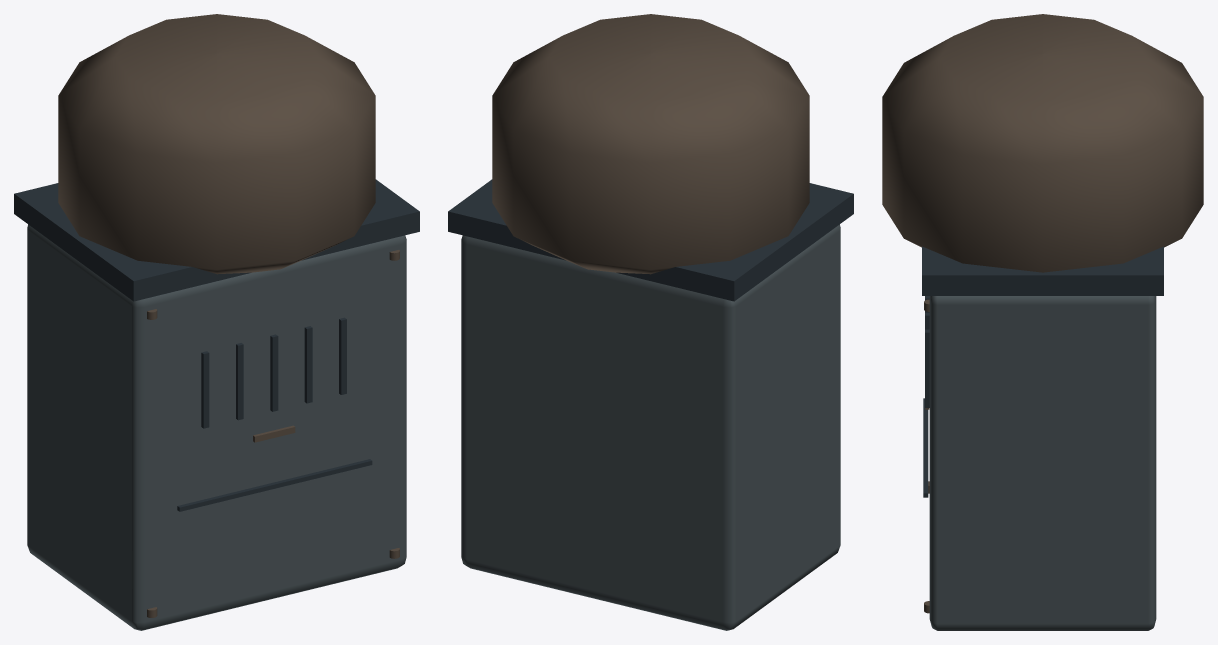
File: hopper-1.glb
3 renders of one model, left to right at view 1: azimuth 30°, elevation 25°; view 2: azimuth 150°, elevation 25°; view 3: azimuth 270°, elevation 25°, orthographic.
Visible parts, largest first — view 1: hopper/0/KR-230-1; view 2: hopper/0/KR-230-1; view 3: hopper/0/KR-230-1.
Part boxes in pixels (x1,y1,x2,y2): hopper/0/KR-230-1: (14,14,419,630); hopper/0/KR-230-1: (448,14,853,630); hopper/0/KR-230-1: (882,14,1203,630).
Size of the model in its own units: 1.77 by 3 by 1.7.
